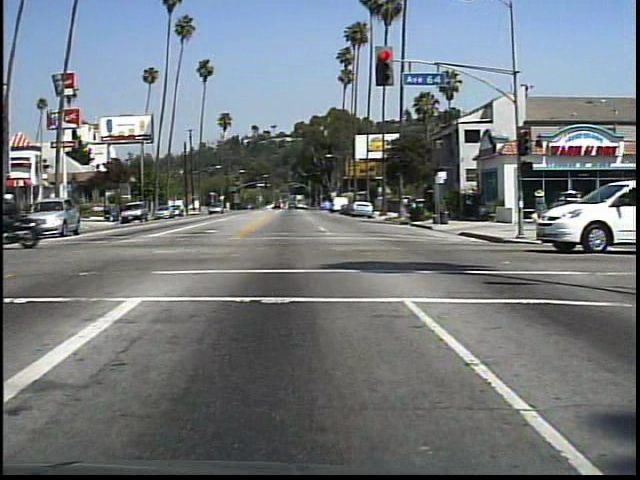person: (527, 186, 552, 217)
